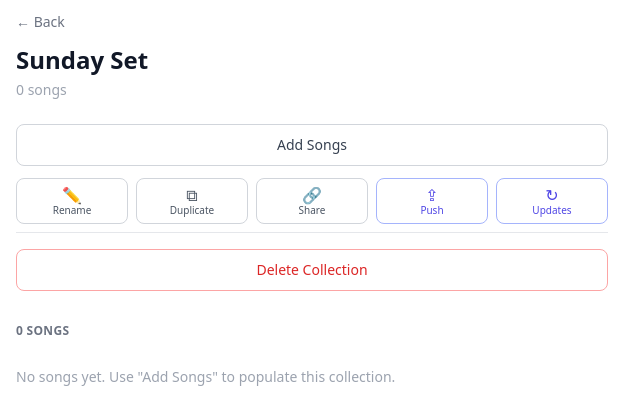
CollectionDetailView — one-click Push Update › disables the button while the push is in flight
Step 1. Click the button with aria-label "Push update" → click(432, 201), box [376, 178, 488, 224]
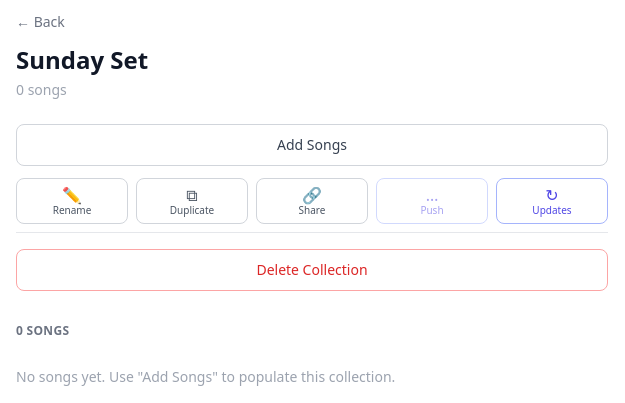
Expected: the button with aria-label "Push update" is disabled, [376, 178, 488, 224]
